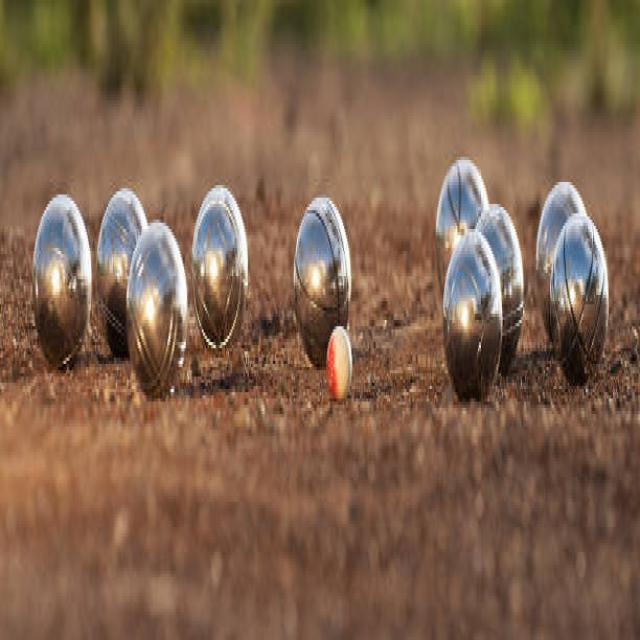hatball: (320, 322, 356, 410)
petanque: (434, 226, 507, 416), (545, 212, 615, 408), (122, 221, 189, 409), (186, 180, 251, 363), (289, 192, 355, 371), (31, 188, 92, 380), (532, 178, 597, 356), (94, 178, 151, 367), (475, 197, 528, 376), (432, 150, 494, 294)
